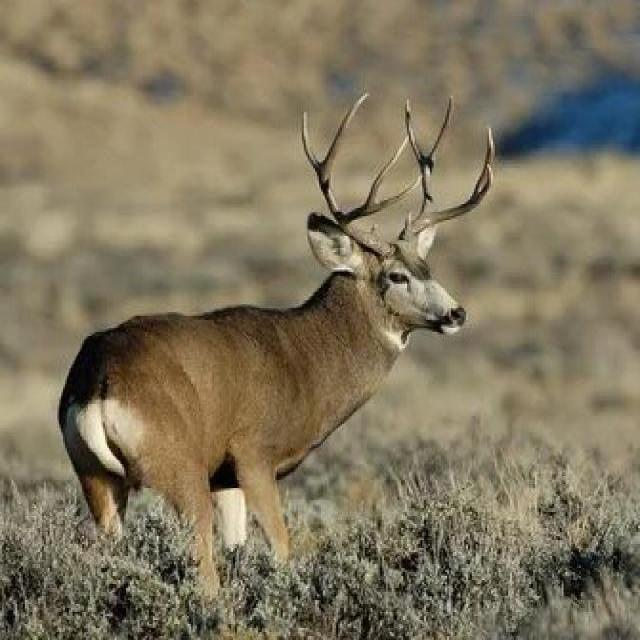deer: (0, 80, 619, 532)
